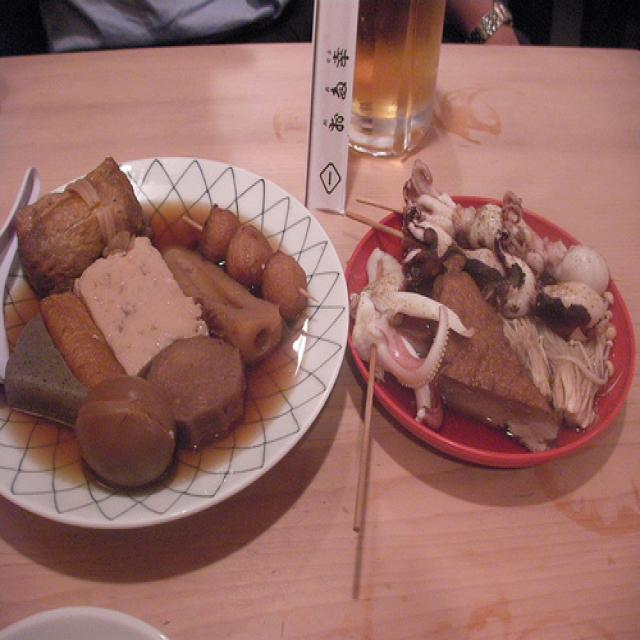汤锅炖物: (3, 145, 316, 488)
